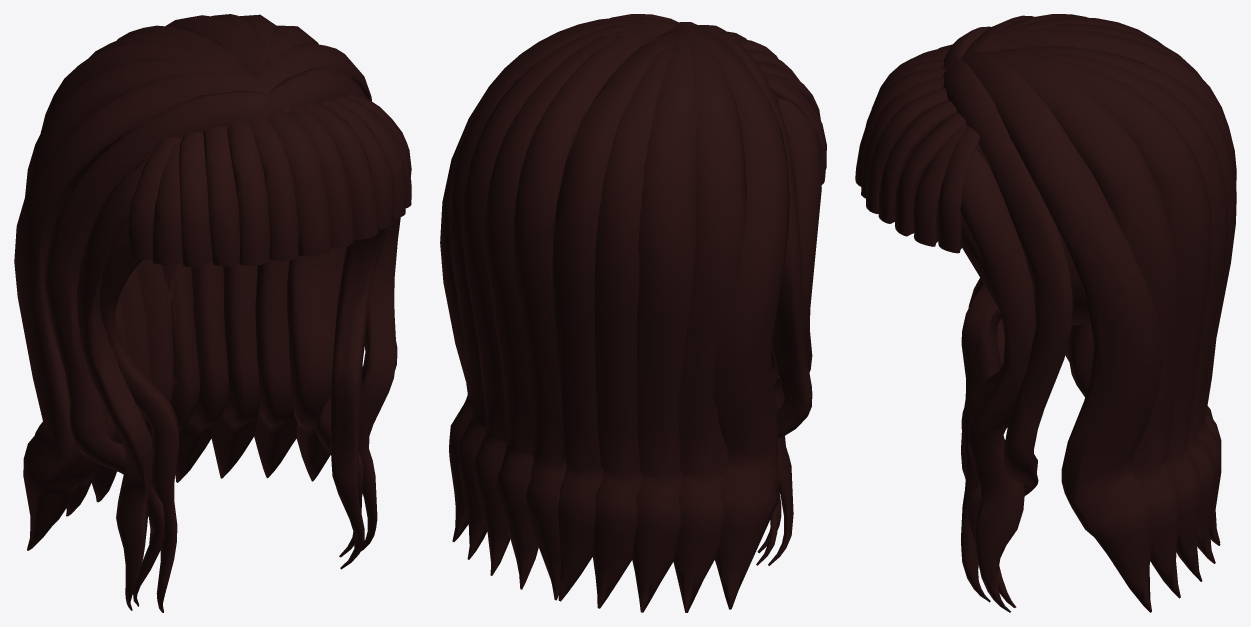
File: hair-1-f703dde2.glb
The picture shows the model from 3 angles, left to right: view 1: azimuth 30°, elevation 25°; view 2: azimuth 150°, elevation 25°; view 3: azimuth 270°, elevation 25°; orthographic projection. The views are drawn at different scales.
Visible parts, largest first — view 1: hair_1.001; view 2: hair_1.001; view 3: hair_1.001.
Part boxes in pixels (box(x1,y1,x2,y2)): hair_1.001: box(14, 14, 411, 612); hair_1.001: box(440, 14, 826, 612); hair_1.001: box(855, 14, 1236, 612).
Size of the model in its own units: 2.09 by 3.13 by 2.08.
